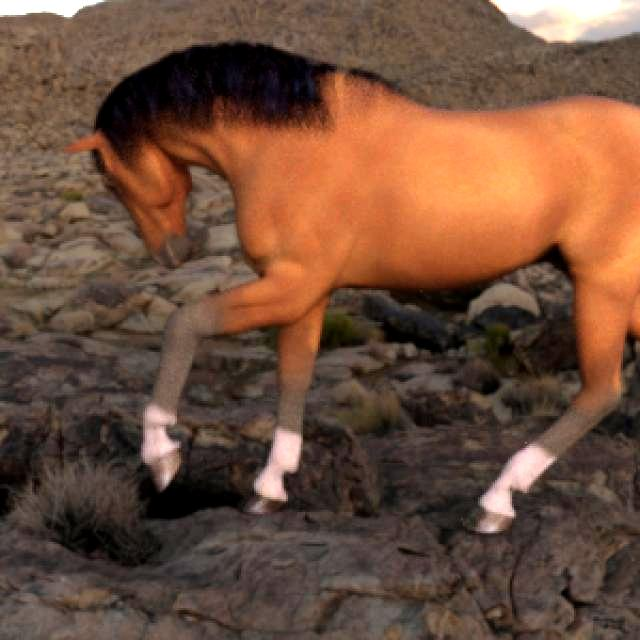horse: (65, 42, 640, 533)
